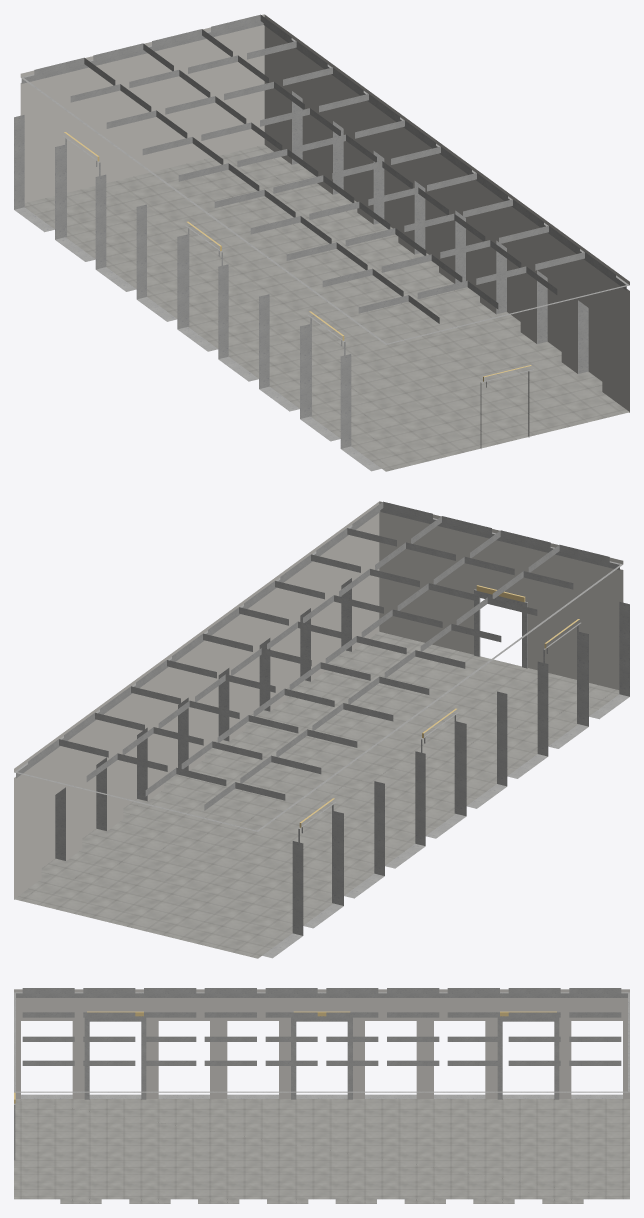
The model's file is orangery.glb.
3 views of the same model, one above another, from view 1: azimuth 30°, elevation 25°; view 2: azimuth 150°, elevation 25°; view 3: azimuth 270°, elevation 25° (orthographic). The views are drawn at different scales.
Parts seen in each view (by area): view 1: orangery; view 2: orangery; view 3: orangery.
Boxes of the visible parts, x1,y1,x2,y2 form: orangery: (14, 14, 629, 471); orangery: (14, 501, 629, 958); orangery: (14, 988, 629, 1203).
Size of the model in its own units: 15 by 7.4 by 35.8.
5 materials, 2 textured.
